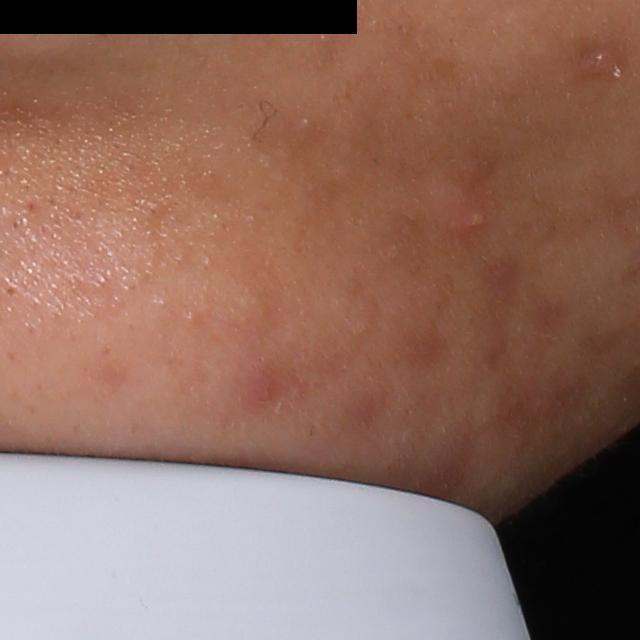papule: (580, 50, 620, 77)
